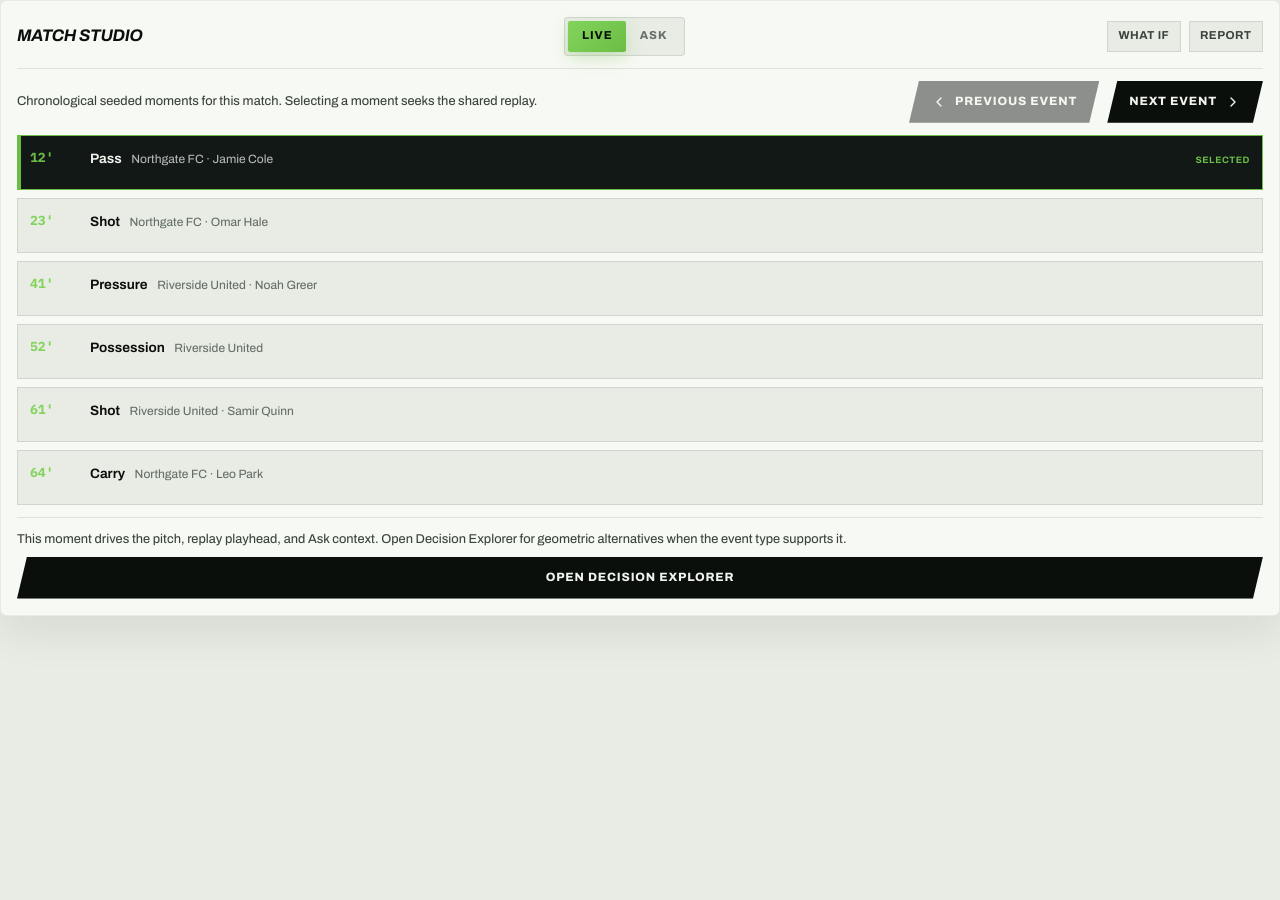
Scenario: MatchStudioPanel › shows a visible crew answer for a greeting response
What coordinates should you click on to do the following:
click the tab "Ask"
I would click on:
 (654, 36)
Its box is [626,21,681,52].
(page scrolled)
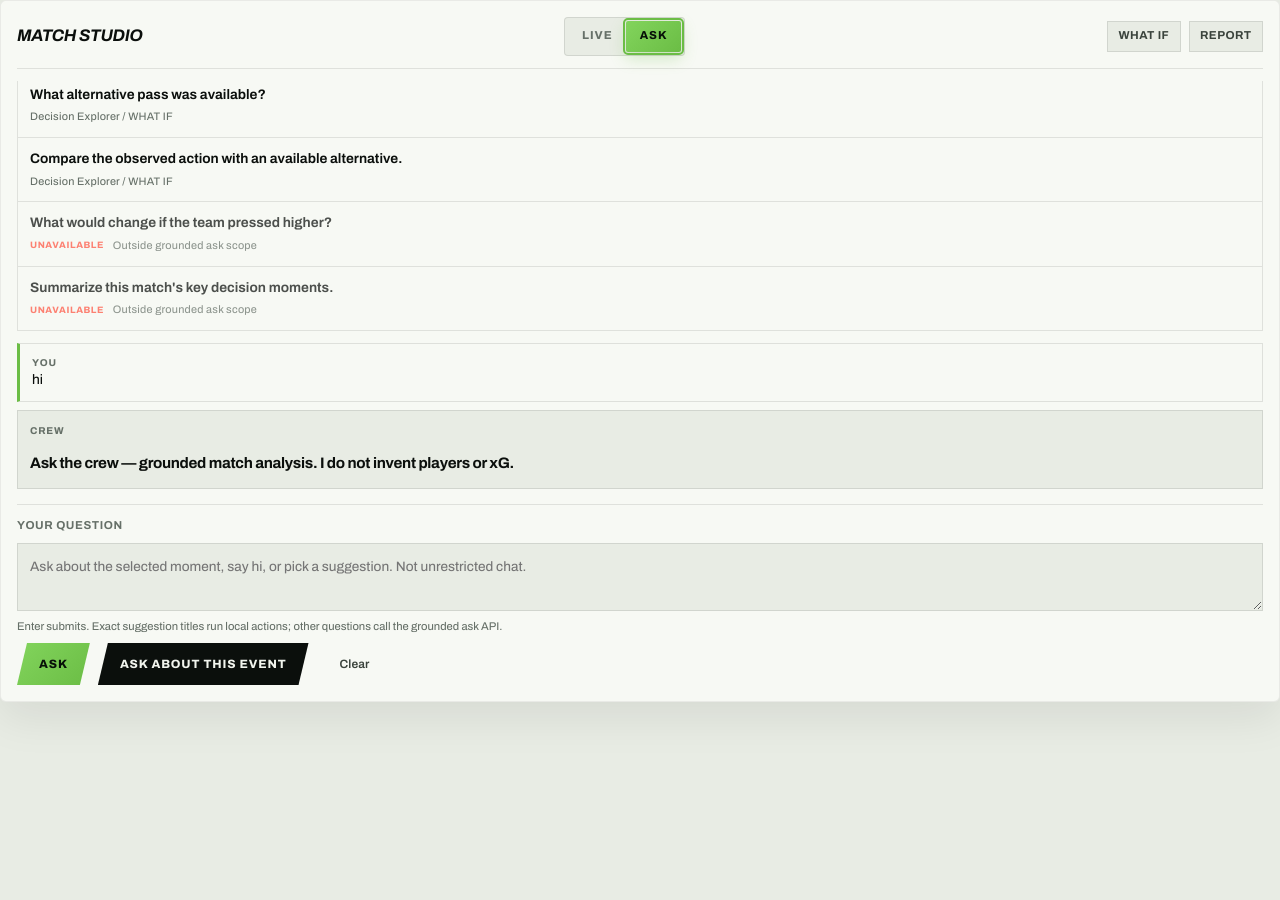
Now the element with test id "ask-user-message" shows "hi", box [32,372,43,387]
Now the element with test id "ask-crew-answer" shows "Ask the crew — grounded match analysis", box [30,455,514,471]
Now the element with test id "ask-crew-answer" shows "not invent", box [30,455,514,471]
